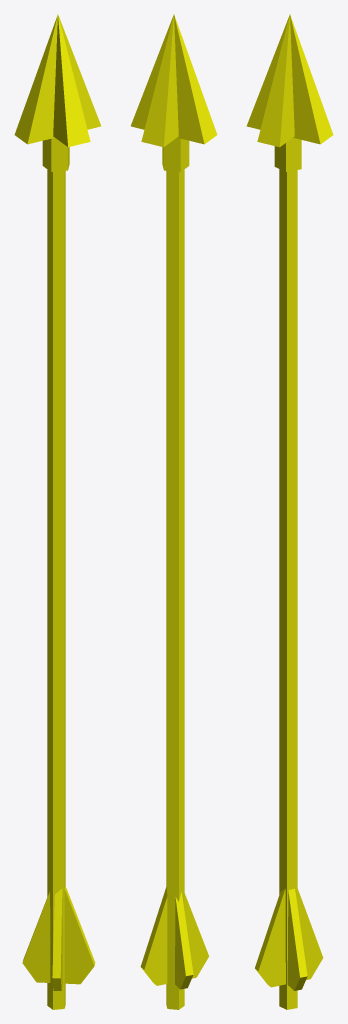
File: _arrow_c_11.glb
3 views of the same model, side by side, from view 1: azimuth 30°, elevation 25°; view 2: azimuth 150°, elevation 25°; view 3: azimuth 330°, elevation 25° (orthographic).
Parts seen in each view (by area): view 1: arrow_c_11; view 2: arrow_c_11; view 3: arrow_c_11.
Part boxes in pixels (<box>): arrow_c_11: <box>14,14,100,1009</box>; arrow_c_11: <box>131,14,217,1009</box>; arrow_c_11: <box>246,14,333,1009</box>.
Bounding box in the file's own units: 0.0457 × 0.5846 × 0.0457.
Materials: 1 (1 with a texture image).
